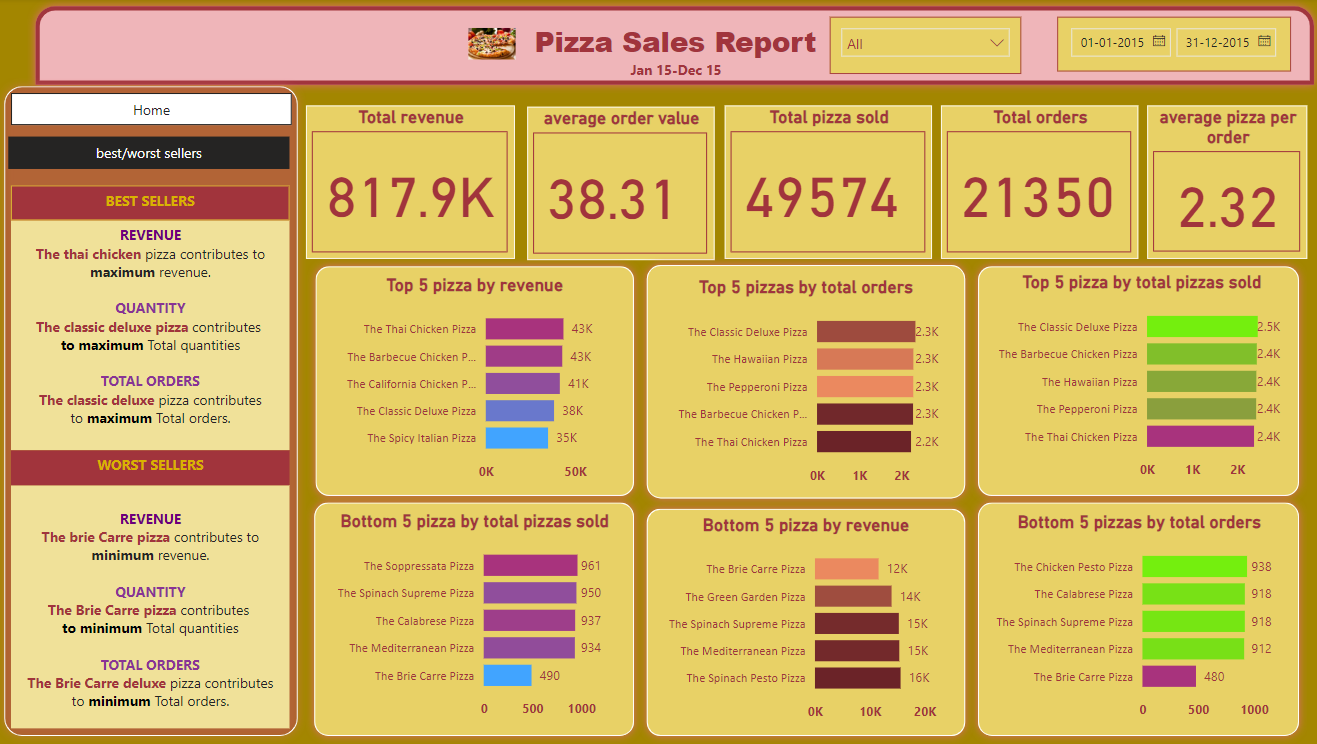

Layout of this report page (visuals, bound fields, positions):
{"tool":"powerbi","page":{"name":"best/worst sellers","canvas":[1280,720],"ordinal":1},"visuals":[{"type":"cardVisual","title":"average order value","fields":{"Data":["pizza_sales.avg_order_value"]},"box":[512.7,105,181,148.4],"z":0},{"type":"cardVisual","title":"Total pizza sold","fields":{"Data":["Sum(pizza_sales.quantity)"]},"box":[703.4,103.8,200.3,148.4],"z":1000},{"type":"cardVisual","title":"Total orders","fields":{"Data":["pizza_sales.total_orders"]},"box":[912.1,103.8,190.6,148.4],"z":2000},{"type":"cardVisual","title":"average pizza per order","fields":{"Data":["pizza_sales.avg_pizza_per_order"]},"box":[1111.1,103.8,154.4,148.4],"z":3000},{"type":"cardVisual","title":"Total revenue","fields":{"Data":["Sum(pizza_sales.total_revenue)"]},"box":[299.2,103.8,201.5,148.4],"z":4000},{"type":"shape","box":[30.2,0,1249.9,91.7],"z":5000},{"type":"textbox","box":[506.7,18.1,298,54.3],"z":6000},{"type":"textbox","box":[596,55.5,120.6,30.2],"z":7000},{"type":"image","box":[434.3,24.1,89.3,39.8],"z":8000},{"type":"shape","box":[620.1,485,323.3,235.3],"z":9000},{"type":"shape","box":[0,77.2,299.2,643],"z":10000},{"type":"textbox","box":[14.5,181,269,33.8],"z":11000},{"type":"textbox","box":[14.5,214.7,269,222],"z":12000},{"type":"textbox","box":[14.5,436.7,269,33.8],"z":13000},{"type":"textbox","box":[14.5,470.5,269,234],"z":14000},{"type":"slicer","title":"Choose pizza category","fields":{"Values":["pizza_sales.pizza_category"]},"box":[804.7,18.1,184.6,55.5],"z":15000},{"type":"slicer","title":"Choose pizza category","fields":{"Values":["pizza_sales.order_date"]},"box":[1024.3,18.1,225.6,53.1],"z":16000},{"type":"shape","box":[300.4,250.9,323.3,237.7],"z":17000},{"type":"shape","box":[939.8,250.9,325.7,237.7],"z":18000},{"type":"shape","box":[299.2,479,324.5,241.3],"z":19000},{"type":"shape","box":[620.1,249.7,323.3,241.3],"z":20000},{"type":"shape","box":[939.8,479,325.7,241.3],"z":21000},{"type":"barChart","title":"Top 5 pizza by revenue","fields":{"Category":["pizza_sales.pizza_name"],"Y":["Sum(pizza_sales.total_revenue)"]},"box":[320.9,266.6,282.3,208.7],"z":22000},{"type":"barChart","title":"Bottom 5 pizza by revenue ","fields":{"Category":["pizza_sales.pizza_name"],"Y":["Sum(pizza_sales.total_revenue)"]},"box":[640.6,498.3,282.3,208.7],"z":23000},{"type":"barChart","title":"Top 5 pizza by total pizzas sold","fields":{"Category":["pizza_sales.pizza_name"],"Y":["Sum(pizza_sales.quantity)"]},"box":[959.3,263.7,293.6,209.5],"z":24000},{"type":"barChart","title":"Bottom 5 pizza by total pizzas sold","fields":{"Category":["pizza_sales.pizza_name"],"Y":["Sum(pizza_sales.quantity)"]},"box":[320.9,494.6,282.3,209.9],"z":25000},{"type":"barChart","title":"Top 5 pizzas by total orders","fields":{"Category":["pizza_sales.pizza_name"],"Y":["pizza_sales.total_orders"]},"box":[640.6,269,282.3,209.9],"z":26000},{"type":"barChart","title":"Bottom 5 pizzas by total orders","fields":{"Category":["pizza_sales.pizza_name"],"Y":["pizza_sales.total_orders"]},"box":[956.4,496,293.6,209.5],"z":27000},{"type":"pageNavigator","box":[14.5,91.7,271.4,31.4],"z":28000},{"type":"pageNavigator","box":[12.1,133.9,271.4,31.4],"z":29000}]}

Visuals, with their boxes in screenshot pixels (x1, y1, x2, y2), scaled from the page's 1280x720 canvas onto the 1317x744 screenshot:
"average order value" cardVisual: x1=528 y1=109 x2=714 y2=262
"Total pizza sold" cardVisual: x1=724 y1=107 x2=930 y2=261
"Total orders" cardVisual: x1=938 y1=107 x2=1135 y2=261
"average pizza per order" cardVisual: x1=1143 y1=107 x2=1302 y2=261
"Total revenue" cardVisual: x1=308 y1=107 x2=515 y2=261
shape: x1=31 y1=0 x2=1316 y2=95
textbox: x1=521 y1=19 x2=828 y2=75
textbox: x1=613 y1=57 x2=737 y2=89
image: x1=447 y1=25 x2=539 y2=66
shape: x1=638 y1=501 x2=971 y2=743
shape: x1=0 y1=80 x2=308 y2=743
textbox: x1=15 y1=187 x2=292 y2=222
textbox: x1=15 y1=222 x2=292 y2=451
textbox: x1=15 y1=451 x2=292 y2=486
textbox: x1=15 y1=486 x2=292 y2=728
"Choose pizza category" slicer: x1=828 y1=19 x2=1018 y2=76
"Choose pizza category" slicer: x1=1054 y1=19 x2=1286 y2=74
shape: x1=309 y1=259 x2=642 y2=505
shape: x1=967 y1=259 x2=1302 y2=505
shape: x1=308 y1=495 x2=642 y2=743
shape: x1=638 y1=258 x2=971 y2=507
shape: x1=967 y1=495 x2=1302 y2=743
"Top 5 pizza by revenue" barChart: x1=330 y1=275 x2=621 y2=491
"Bottom 5 pizza by revenue " barChart: x1=659 y1=515 x2=950 y2=731
"Top 5 pizza by total pizzas sold" barChart: x1=987 y1=272 x2=1289 y2=489
"Bottom 5 pizza by total pizzas sold" barChart: x1=330 y1=511 x2=621 y2=728
"Top 5 pizzas by total orders" barChart: x1=659 y1=278 x2=950 y2=495
"Bottom 5 pizzas by total orders" barChart: x1=984 y1=513 x2=1286 y2=729
pageNavigator: x1=15 y1=95 x2=294 y2=127
pageNavigator: x1=12 y1=138 x2=292 y2=171
